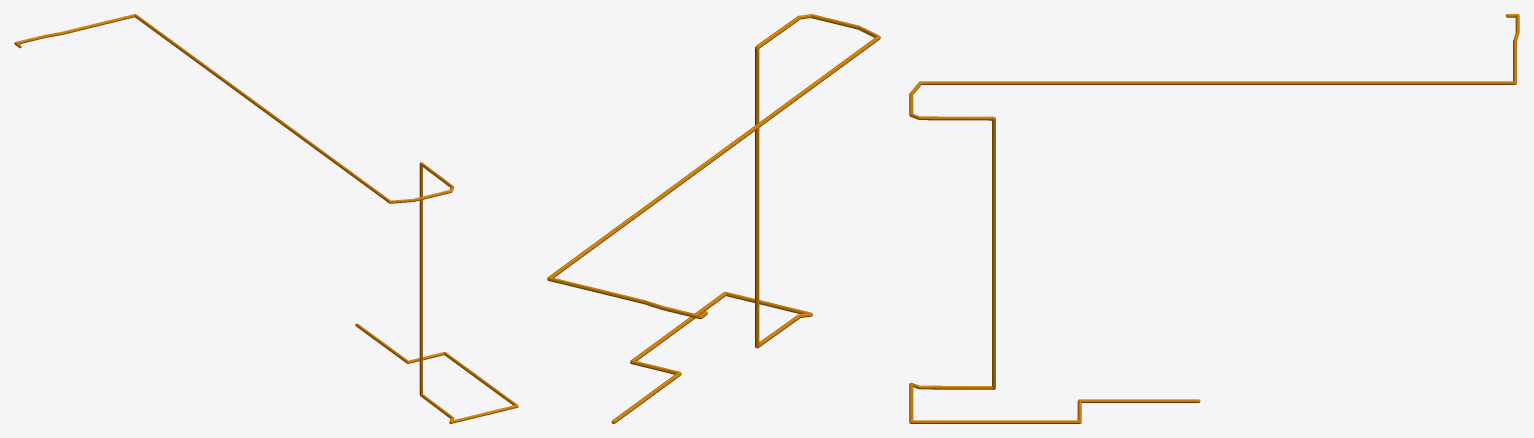
3 views of the same model, side by side, from view 1: azimuth 30°, elevation 25°; view 2: azimuth 150°, elevation 25°; view 3: azimuth 270°, elevation 25° (orthographic). The views are drawn at different scales.
Bounding box in the file's own units: 1656 × 1520 × 3081.
